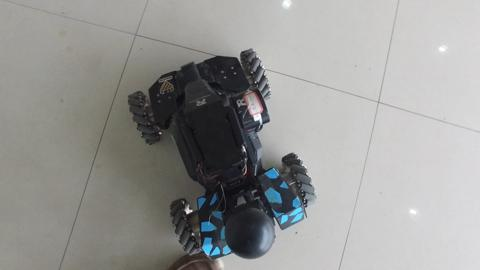chariot: (105, 62, 311, 258)
